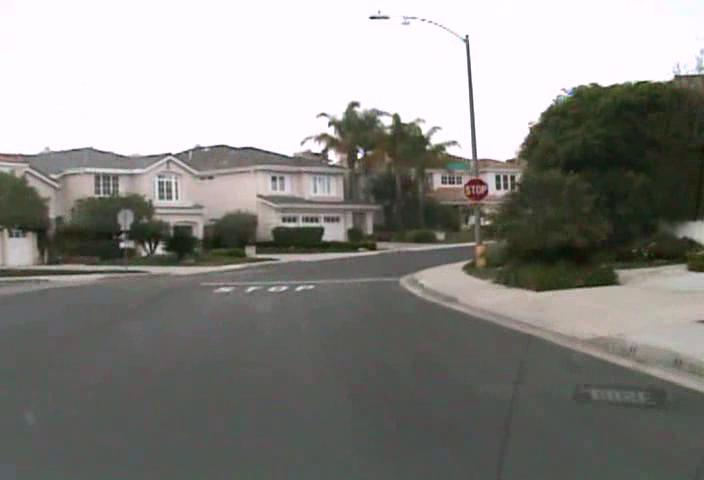stop: (463, 177, 489, 203)
